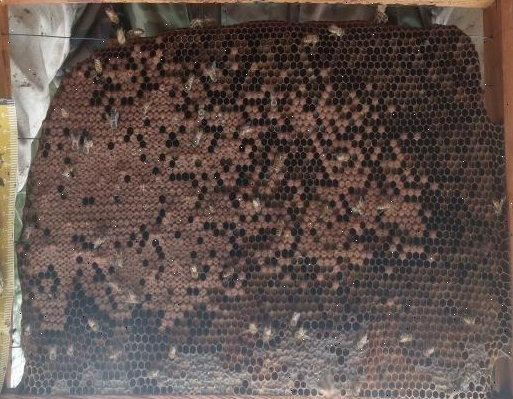cria: (15, 34, 454, 330)
